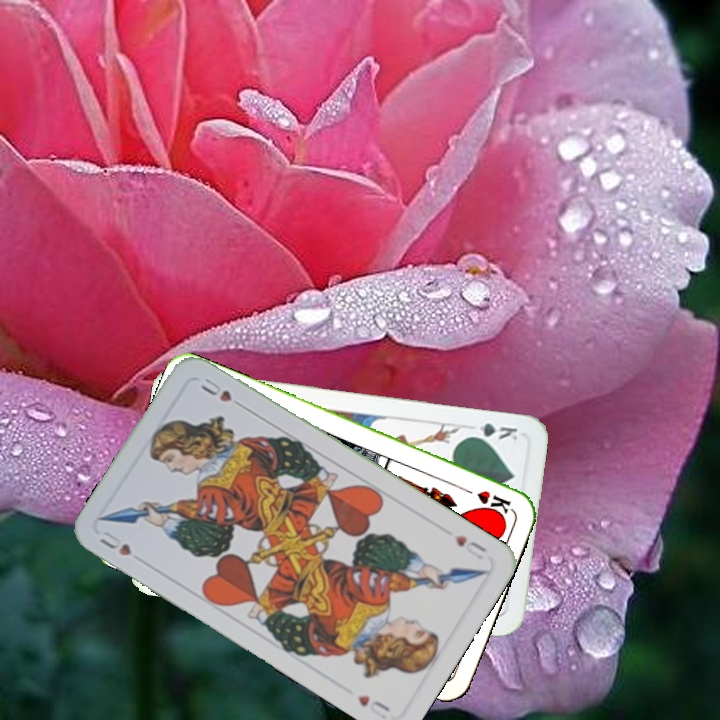GK: (463, 418, 520, 443)
HK: (456, 483, 514, 517)
HU: (94, 526, 134, 559), (450, 531, 489, 562)
